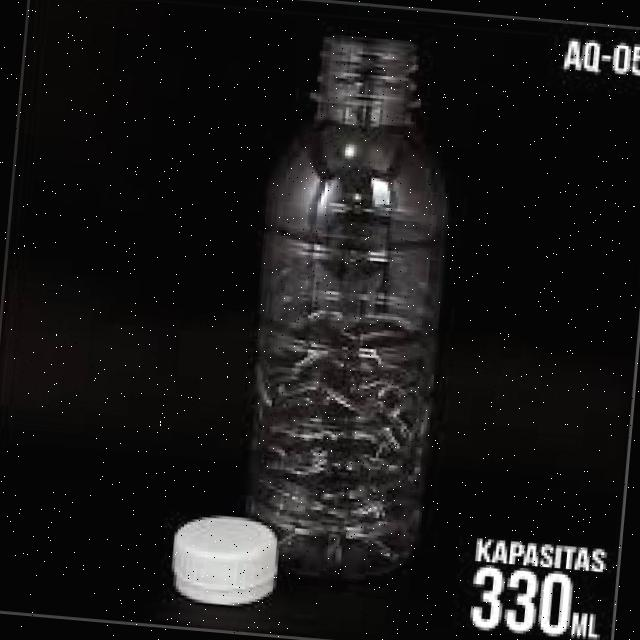bottle: (190, 29, 496, 552)
